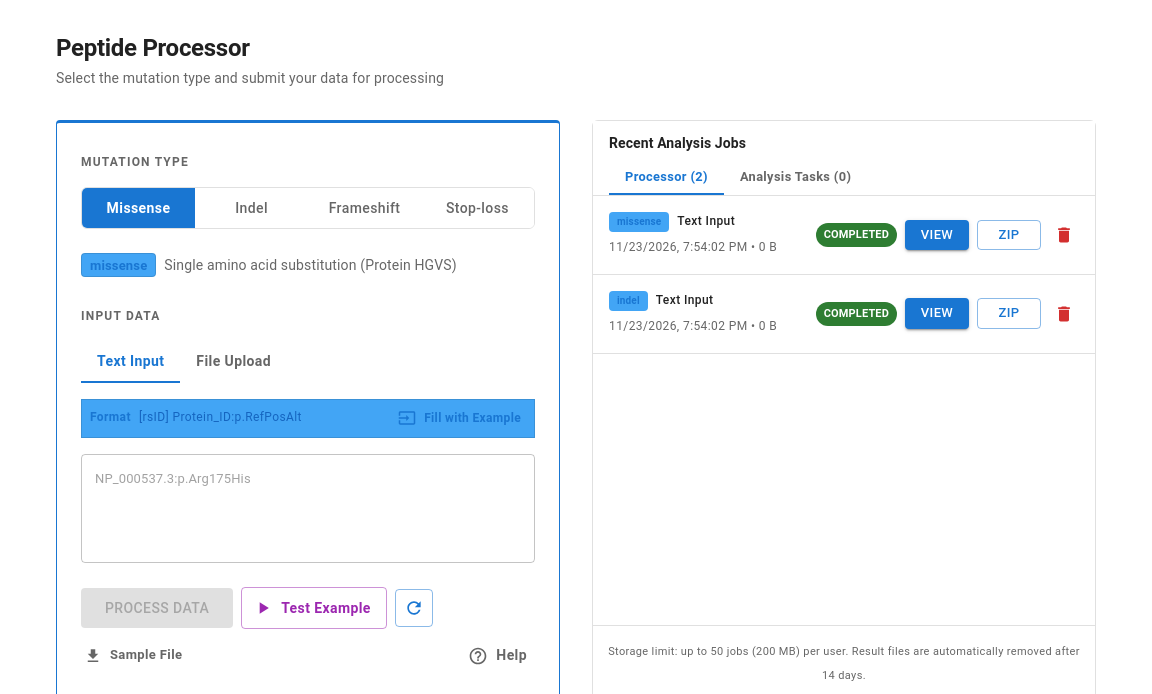
visualizacao de resultados (I50) › perda da identidade sem navegar limpa resultados e lista de Jobs
The width and height of the screenshot is (1152, 694).
Later steps or results of the test are not shown.
Click the 2nd button "View". click: (937, 314)
box: [905, 298, 969, 329]
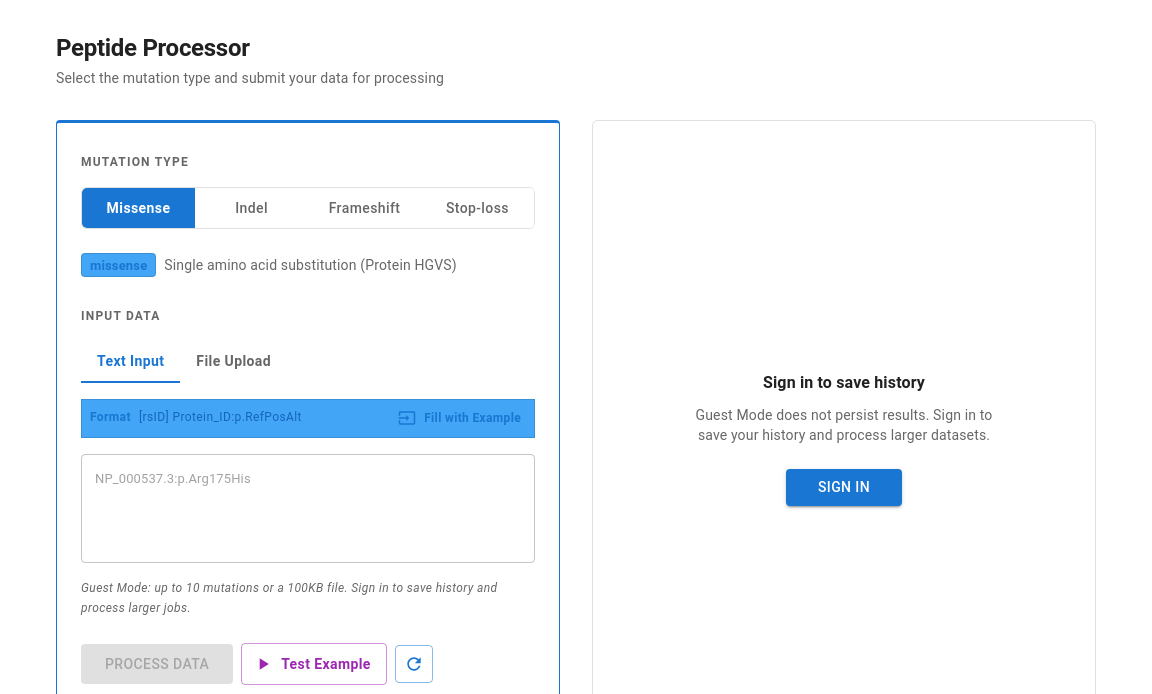
Now no buttons "View" are shown
